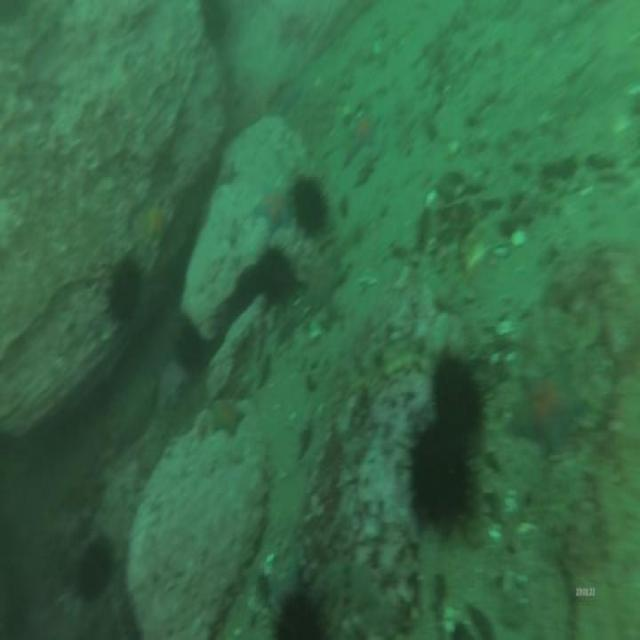echinus: (415, 434, 469, 530), (432, 357, 480, 433), (76, 544, 114, 605), (108, 260, 144, 322), (292, 175, 326, 234), (277, 597, 319, 640), (257, 253, 290, 300), (180, 327, 202, 371)
starfish: (514, 365, 584, 455), (254, 186, 288, 234), (348, 104, 381, 147), (212, 400, 242, 436), (144, 206, 169, 243)
